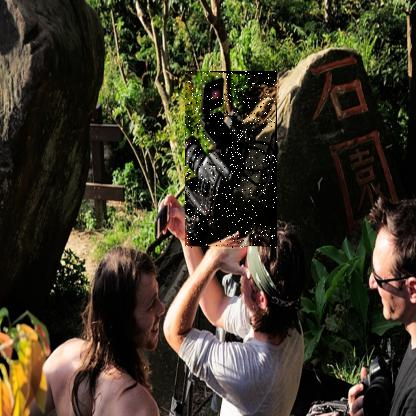Camera: (186, 73, 279, 251)
